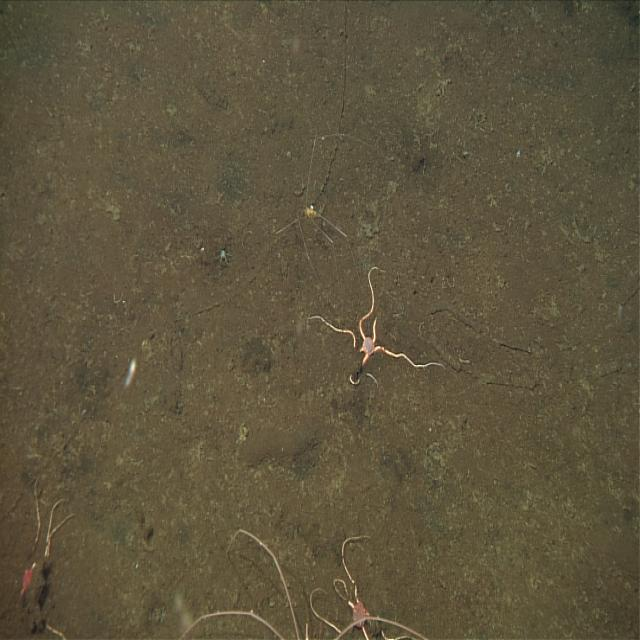Brittle Star: (335, 261, 446, 396)
Not Brittle Star: (268, 113, 368, 317)
